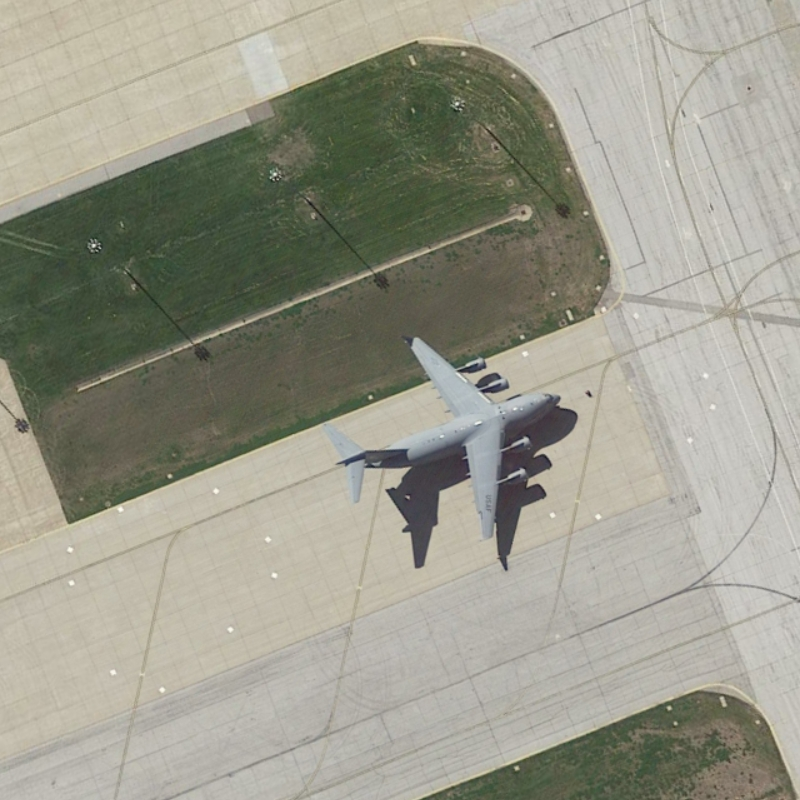A3: (316, 326, 582, 546)
